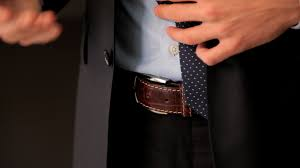F_belt: (106, 65, 215, 125)
